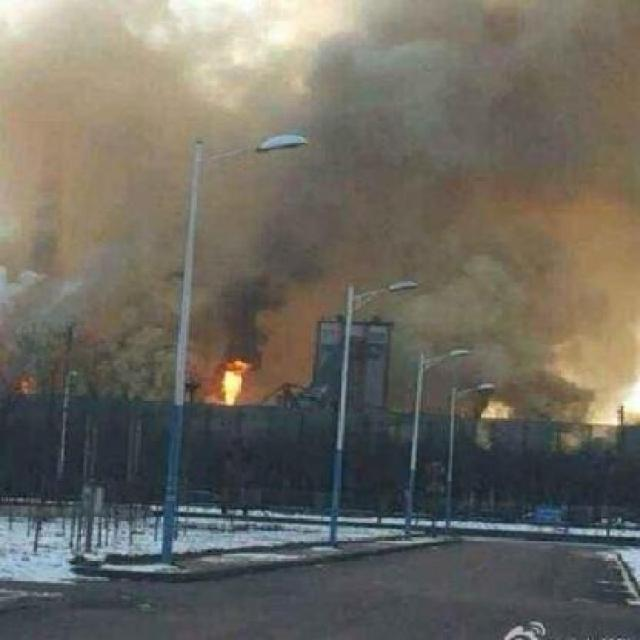Smoke: (2, 2, 640, 343), (210, 358, 256, 409)
